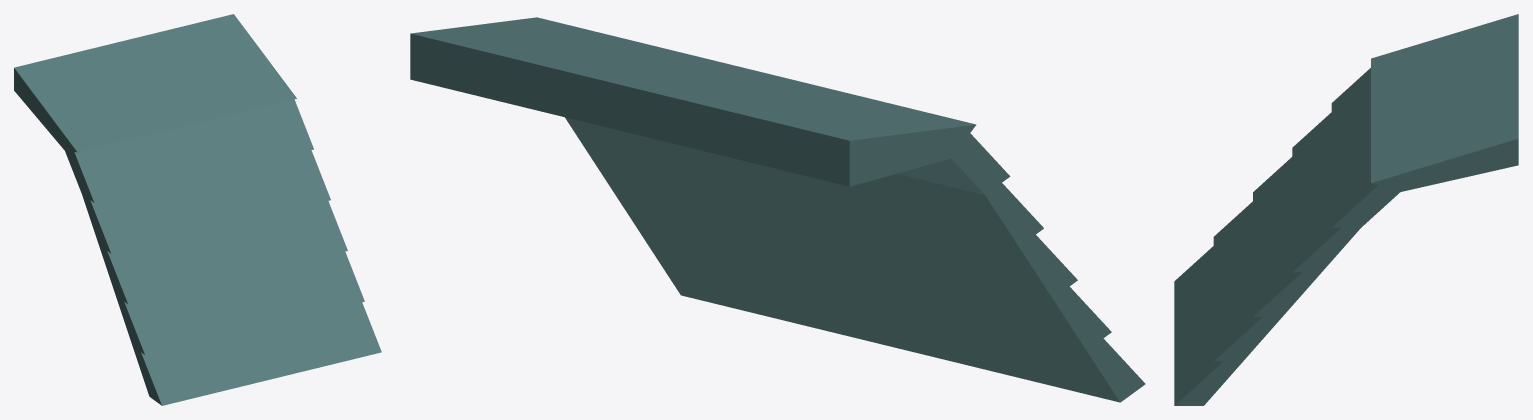
The model's file is fantasy_roof_tile_2.fbx.
The picture shows the model from 3 angles, left to right: view 1: azimuth 30°, elevation 25°; view 2: azimuth 150°, elevation 25°; view 3: azimuth 270°, elevation 25°; orthographic projection. The views are drawn at different scales.
Parts seen in each view (by area): view 1: Cube.234; view 2: Cube.234; view 3: Cube.234.
Part boxes in pixels (x1,y1,x2,y2): Cube.234: [14, 14, 381, 405]; Cube.234: [410, 17, 1145, 402]; Cube.234: [1174, 14, 1518, 405].
Bounding box in the file's own units: 300 × 300 × 350.
